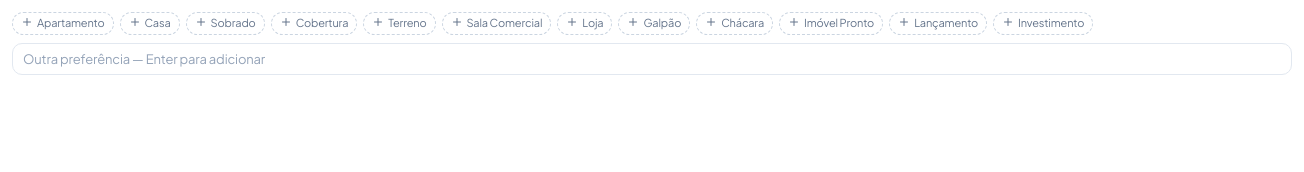
Test: PreferenciasEditor › vírgula fecha o termo — colar "Loja, Ter" vira chip Loja + rascunho Ter
Type "Loja,Ter" into the field with placeholder "Outra preferência — Enter para adicionar". click: (652, 58)
box: top-left (12, 42), bottom-right (1292, 74)
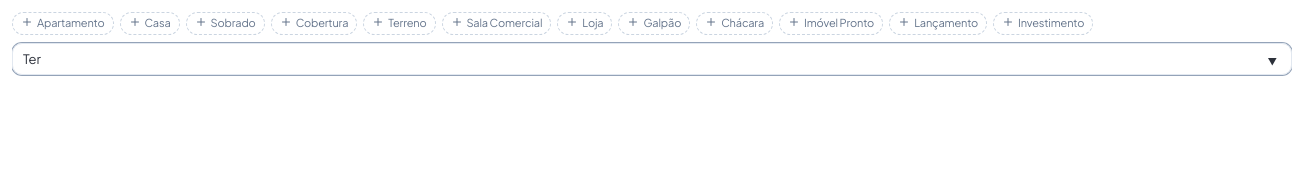
Expected: the field with placeholder "Outra preferência — Enter para adicionar" holds "Ter", top-left (12, 42), bottom-right (1292, 74)
